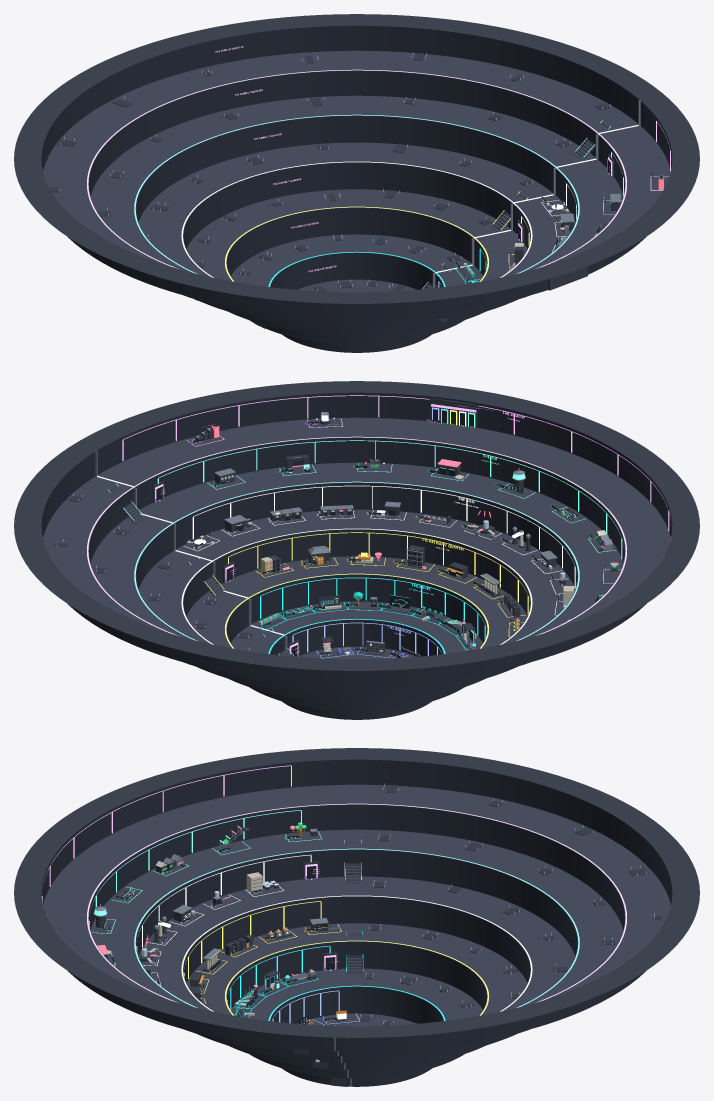
File: the-stack.glb
3 views of the same model, one above another, from view 1: azimuth 30°, elevation 25°; view 2: azimuth 150°, elevation 25°; view 3: azimuth 270°, elevation 25° (orthographic).
Parts seen in each view (by area): view 1: Pit_Shell, Pit_Unbuilt, Pit_Conduit, Pit_Stairs; view 2: Pit_Shell, Pit_Traces, D6_AntilibraryGate, Pit_Conduit, Pit_Stairs, Pit_Unbuilt; view 3: Pit_Shell, Pit_Traces, Pit_Unbuilt, Pit_Stairs.
Boxes of the visible parts, box(x1,y1,x2,y2) form: Pit_Shell: box(14, 14, 699, 352); Pit_Unbuilt: box(49, 52, 611, 291); Pit_Conduit: box(432, 100, 640, 288); Pit_Stairs: box(422, 120, 612, 289); Pit_Shell: box(14, 381, 699, 719); Pit_Traces: box(122, 395, 671, 655); D6_AntilibraryGate: box(429, 398, 478, 428); Pit_Conduit: box(95, 451, 287, 652); Pit_Stairs: box(106, 483, 569, 656); Pit_Unbuilt: box(53, 493, 253, 650); Pit_Shell: box(14, 748, 699, 1086); Pit_Traces: box(41, 765, 339, 1023); Pit_Unbuilt: box(359, 784, 661, 1025); Pit_Stairs: box(344, 840, 363, 975).
Bounding box in the file's own units: 348 × 88.28 × 348.
